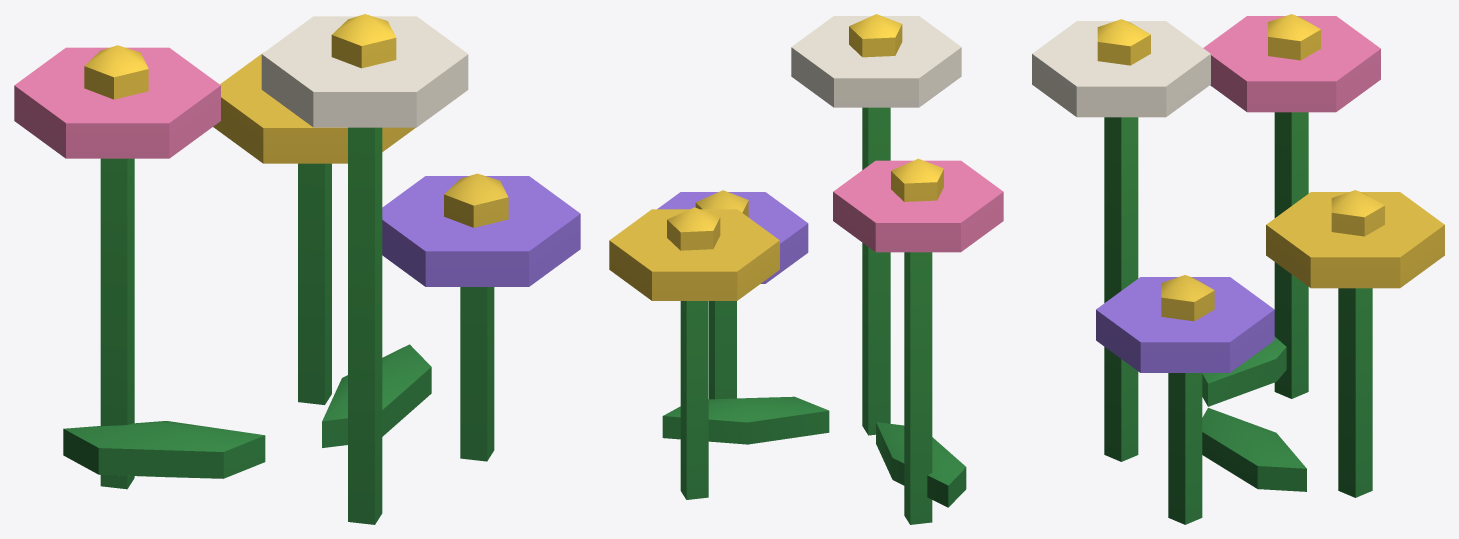
File: tiny_flowers.glb
The picture shows the model from 3 angles, left to right: view 1: azimuth 30°, elevation 25°; view 2: azimuth 150°, elevation 25°; view 3: azimuth 270°, elevation 25°; orthographic projection. The views are drawn at different scales.
Visible parts, largest first — view 1: tiny_flowers; view 2: tiny_flowers; view 3: tiny_flowers.
Part boxes in pixels (x1=…): tiny_flowers: x1=14, y1=14, x2=580, y2=524; tiny_flowers: x1=609, y1=14, x2=1003, y2=524; tiny_flowers: x1=1032, y1=14, x2=1444, y2=524.
Size of the model in its own units: 0.2127 by 0.226 by 0.194.
